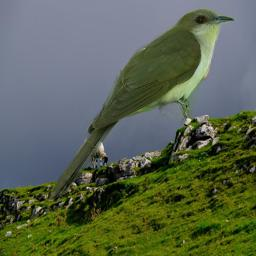Cuckoo: (48, 8, 236, 204)
